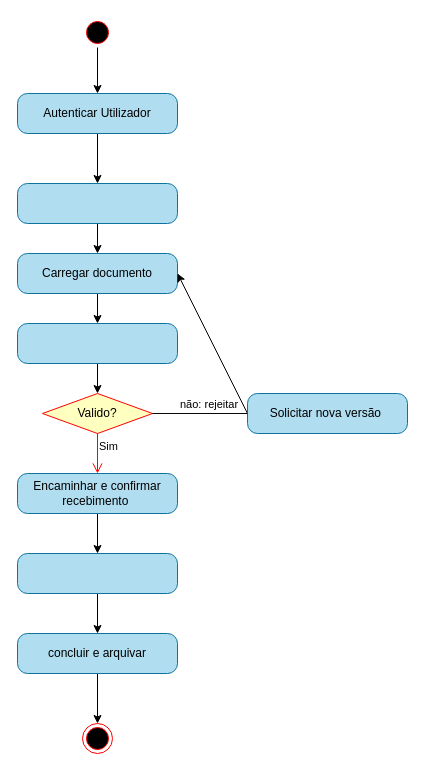
Image size: 425x771. Some labels were removed from this diagram. The box of each missing label's shape, as (x1, y1, x2, y2) in pixels:
Emitir parecer e despacho: (16, 552, 178, 594)
Registar remetente e expediente: (16, 182, 178, 224)
Validar documento: (16, 322, 178, 364)
